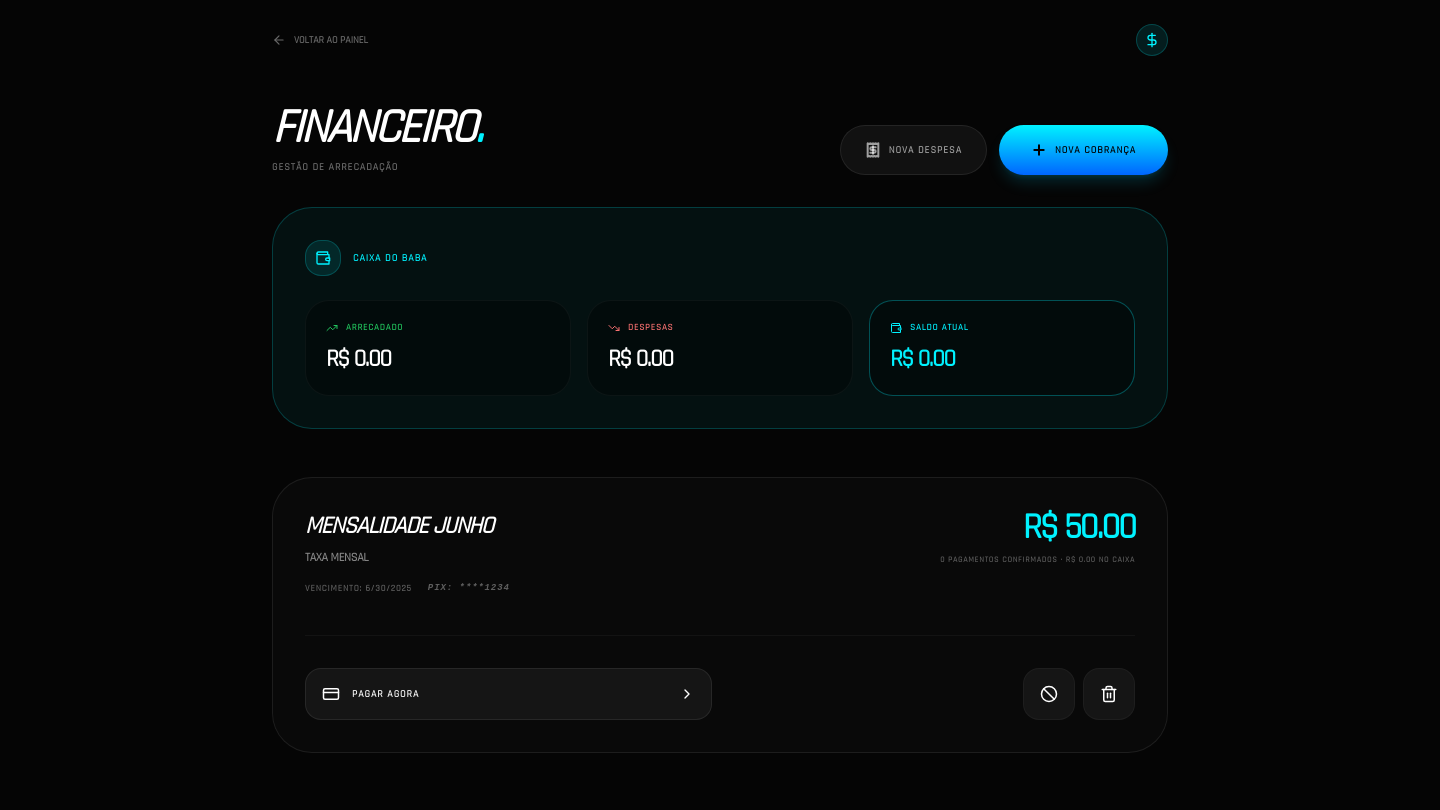
FinancialPage — presidente: excluir cobrança › abre ConfirmModal ao clicar em Excluir
Expected: the heading "MENSALIDADE JUNHO" is shown, [305,510,493,542]
Note: Botão Trash2 (último botão com svg)
Click the 6th button at (1109, 694), box [1083,668,1135,720]
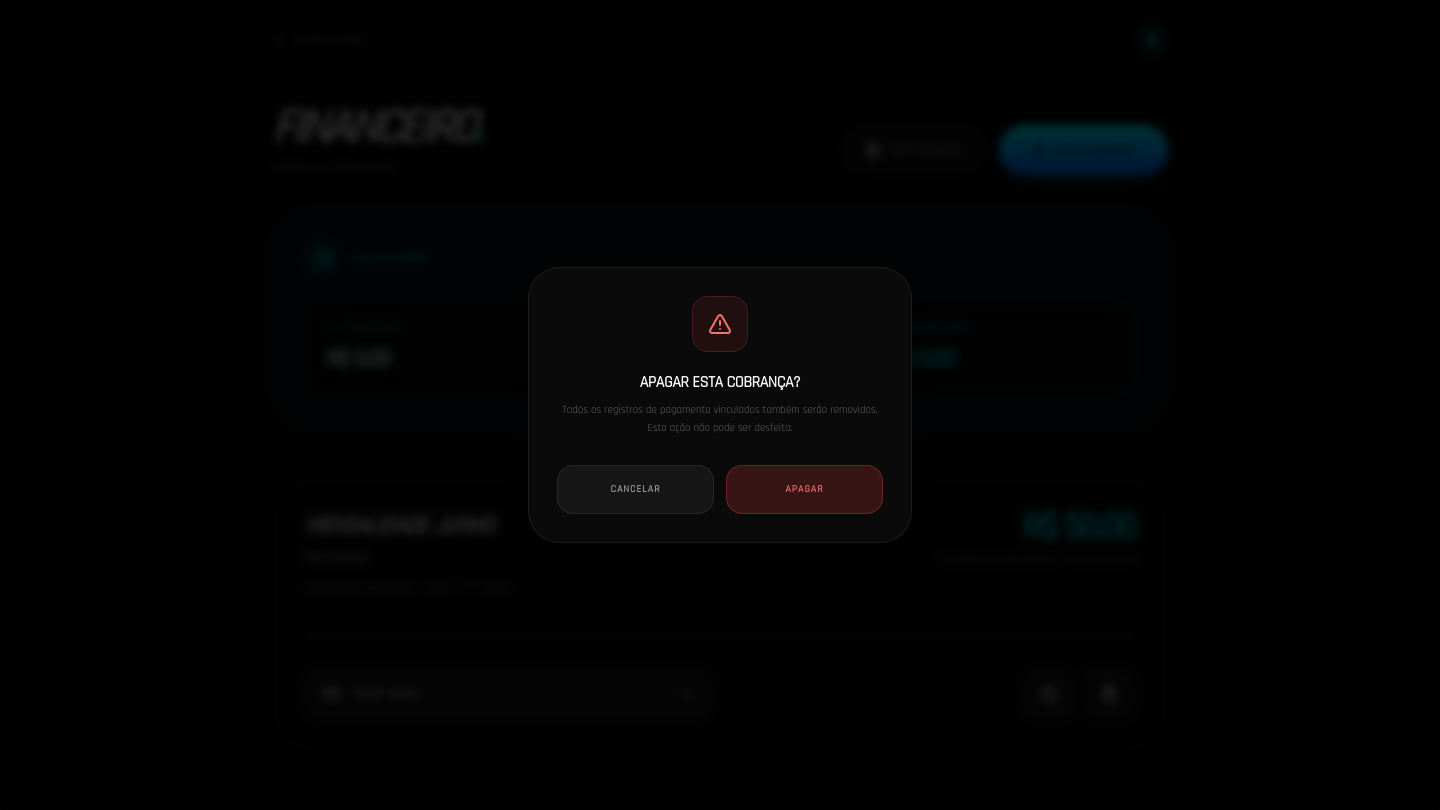
Expected: the text "Apagar esta cobrança?" is shown, [640,372,800,393]
